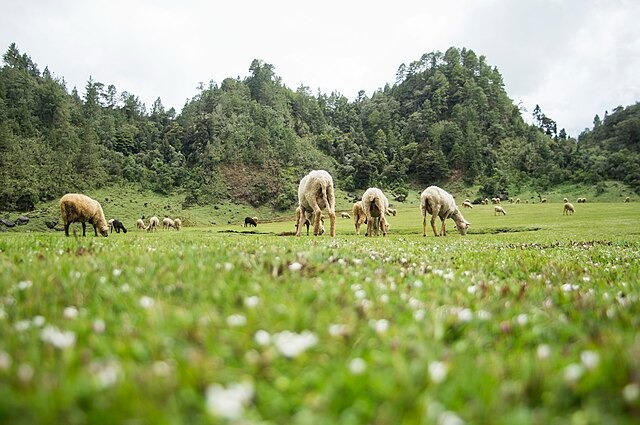grazing: (291, 170, 336, 236), (417, 182, 470, 237), (59, 190, 109, 238), (110, 219, 128, 233), (491, 205, 509, 218), (244, 215, 258, 228)
